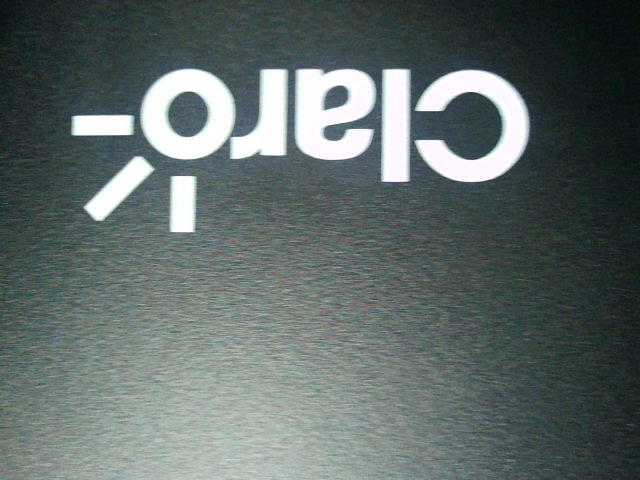BC_Claor: (61, 34, 532, 243)
